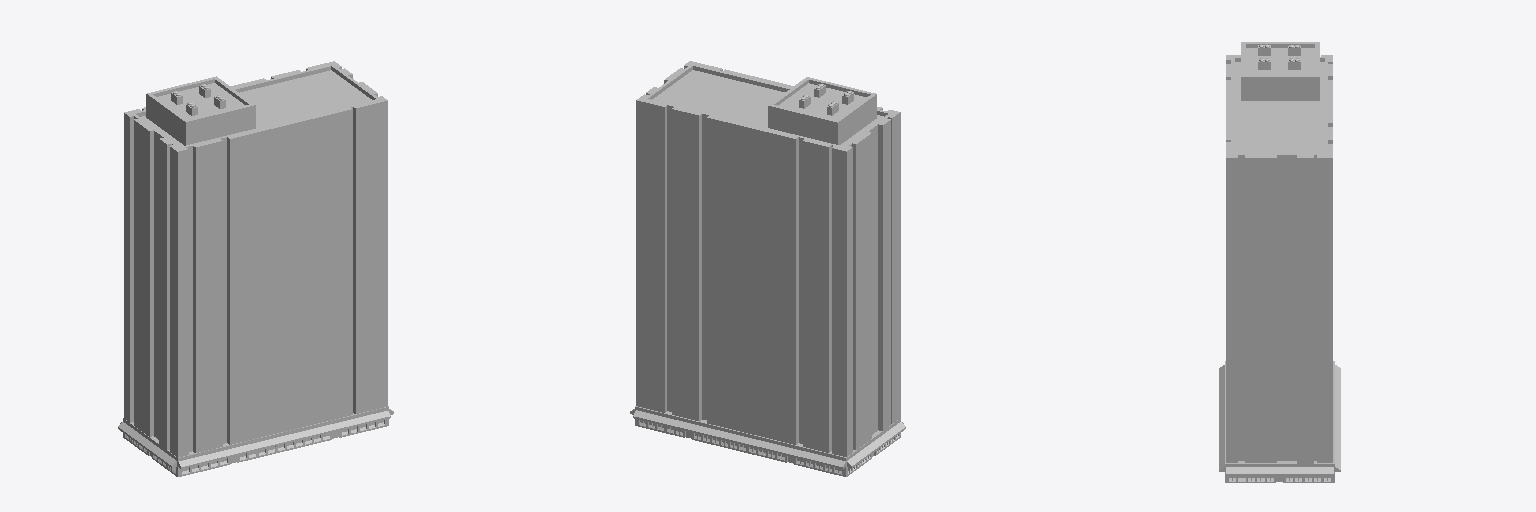
3 renders of one model, left to right at view 1: azimuth 30°, elevation 25°; view 2: azimuth 150°, elevation 25°; view 3: azimuth 270°, elevation 25°, orthographic.
Visible parts, largest first — view 1: APARTMENT_BLDG.4; view 2: APARTMENT_BLDG.4; view 3: APARTMENT_BLDG.4.
Part boxes in pixels (left/top/right/bottom): APARTMENT_BLDG.4: left=118, top=61, right=393, bottom=476; APARTMENT_BLDG.4: left=630, top=61, right=905, bottom=476; APARTMENT_BLDG.4: left=1219, top=42, right=1340, bottom=482.
Bounding box in the file's own units: 742 × 1120 × 352.